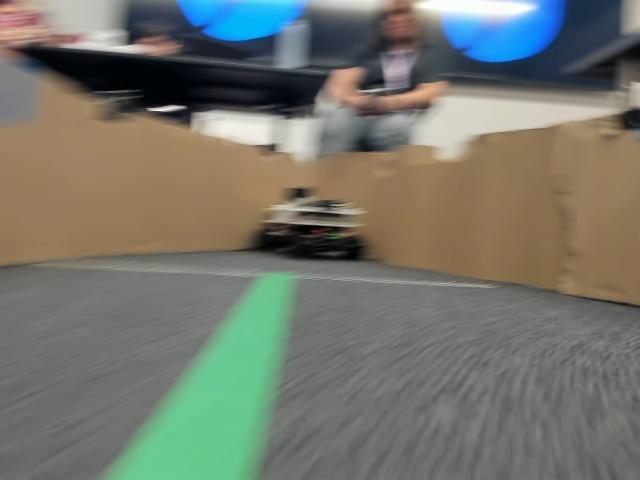Car: (255, 181, 370, 257)
